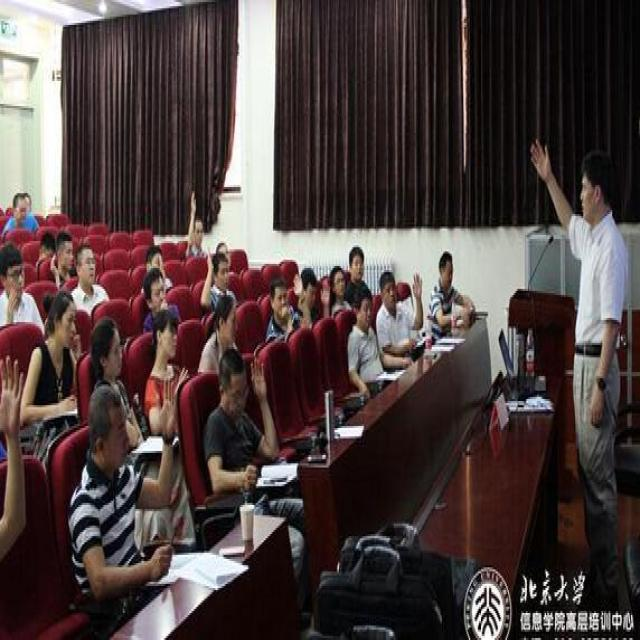head: (87, 384, 128, 466), (576, 144, 617, 220), (88, 314, 123, 384), (42, 285, 78, 349), (218, 347, 248, 416), (212, 289, 238, 349), (152, 310, 176, 358), (351, 278, 373, 326), (74, 239, 96, 287), (142, 266, 166, 310), (140, 239, 164, 274), (296, 262, 316, 303), (55, 227, 73, 272), (268, 274, 286, 316), (435, 245, 453, 285), (37, 226, 56, 262), (378, 266, 395, 305), (213, 247, 228, 287), (11, 187, 27, 222), (346, 243, 362, 276), (329, 264, 345, 297), (189, 212, 203, 245), (215, 237, 229, 268), (19, 183, 31, 210)
